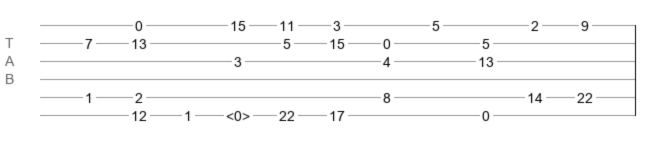0: (135, 18, 143, 28), (383, 36, 391, 46), (482, 108, 490, 118)
1: (85, 90, 93, 100), (184, 108, 192, 118)
11: (279, 18, 295, 28)
12: (131, 108, 147, 118)
13: (131, 36, 147, 46), (478, 54, 494, 64)
14: (527, 90, 543, 100)
15: (230, 18, 246, 28), (329, 36, 345, 46)
17: (329, 108, 345, 118)
2: (135, 90, 143, 100), (531, 18, 539, 28)
22: (279, 108, 295, 118), (577, 90, 593, 100)
3: (234, 54, 242, 64), (333, 18, 341, 28)
4: (383, 54, 391, 64)
5: (283, 36, 291, 46), (432, 18, 440, 28), (482, 36, 490, 46)
7: (85, 36, 93, 46)
8: (383, 90, 391, 100)
9: (581, 18, 589, 28)
harmonic: (226, 108, 250, 118)
